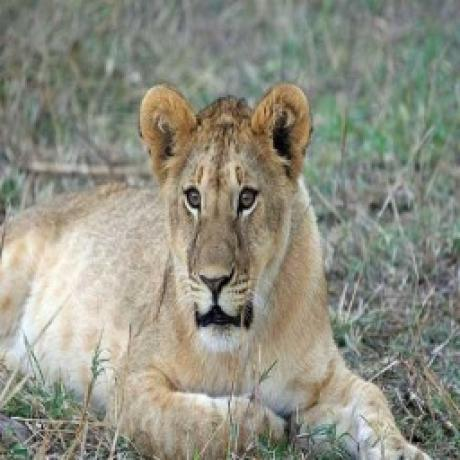Lion: (0, 79, 435, 460)
